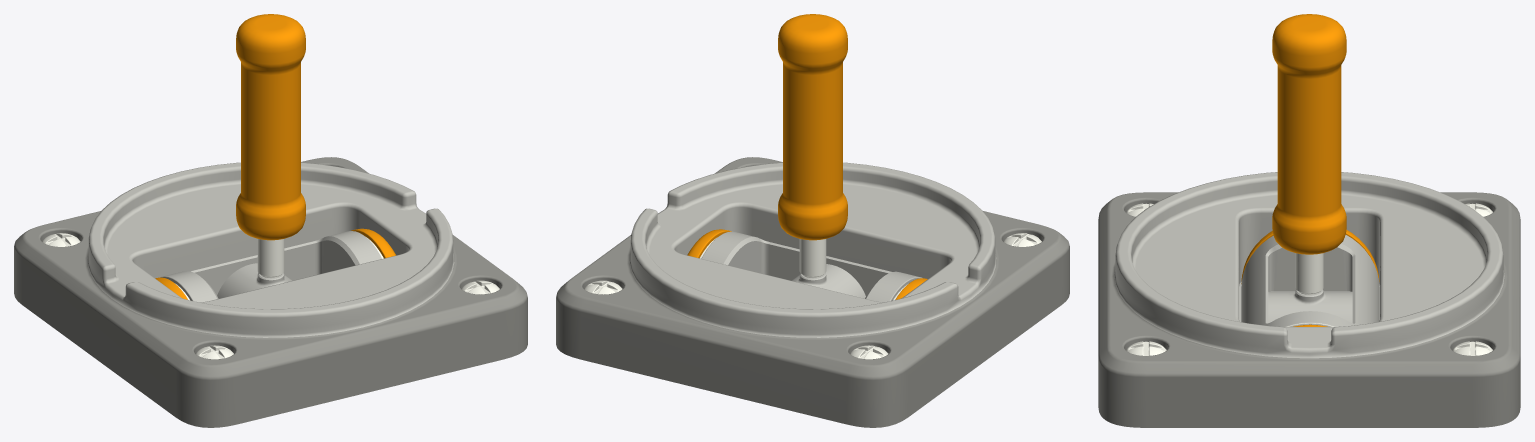
File: Joystick #2.fbx
3 renders of one model, left to right at view 1: azimuth 30°, elevation 25°; view 2: azimuth 150°, elevation 25°; view 3: azimuth 270°, elevation 25°, orthographic. The views are drawn at different scales.
Parts seen in each view (by area): view 1: kitbash_78; view 2: kitbash_78; view 3: kitbash_78.
Boxes of the visible parts, bbox=[...] form: kitbash_78: bbox=[14, 14, 527, 427]; kitbash_78: bbox=[556, 14, 1069, 427]; kitbash_78: bbox=[1098, 14, 1520, 427].
Size of the model in its own units: 15 by 12.34 by 15.
